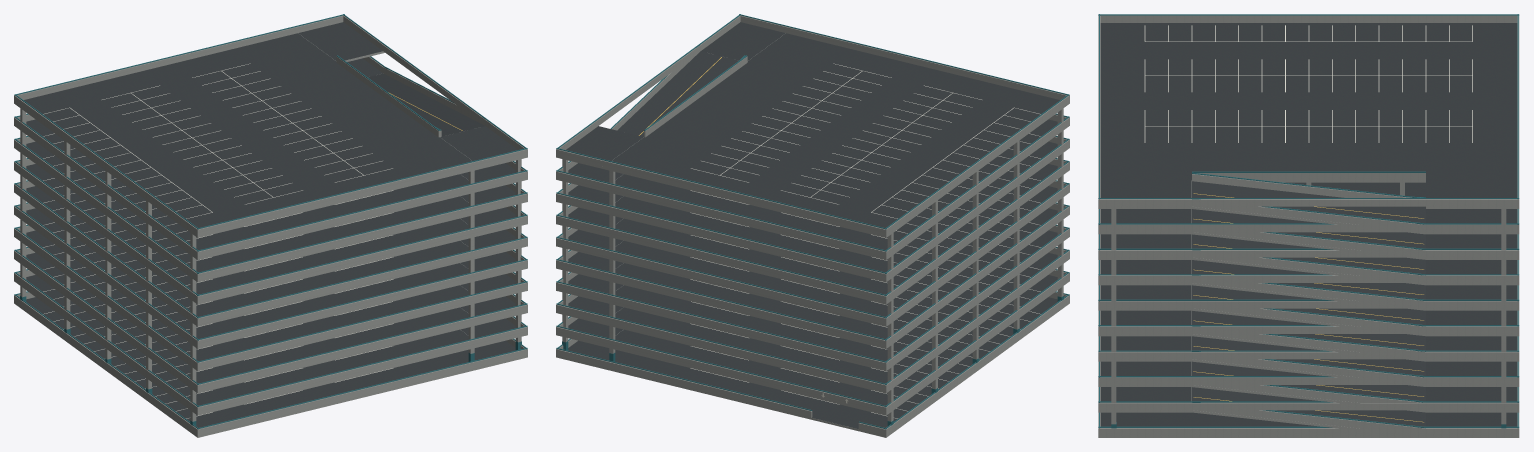
Rendered from large_10.glb.
The picture shows the model from 3 angles, left to right: view 1: azimuth 30°, elevation 25°; view 2: azimuth 150°, elevation 25°; view 3: azimuth 270°, elevation 25°; orthographic projection. The views are drawn at different scales.
Visible parts, largest first — view 1: large_10_Asphalt, large_10_Concrete, large_10_Teal, large_10_Paint; view 2: large_10_Asphalt, large_10_Concrete, large_10_Teal, large_10_Paint; view 3: large_10_Asphalt, large_10_Concrete, large_10_Teal, large_10_Paint, large_10_Yellow.
Part boxes in pixels (x1=…): large_10_Asphalt: x1=24, y1=22, x2=517, y2=427; large_10_Concrete: x1=14, y1=15, x2=527, y2=437; large_10_Teal: x1=14, y1=14, x2=527, y2=429; large_10_Paint: x1=43, y1=63, x2=393, y2=418; large_10_Asphalt: x1=566, y1=22, x2=1059, y2=428; large_10_Concrete: x1=556, y1=15, x2=1069, y2=437; large_10_Teal: x1=556, y1=14, x2=1069, y2=429; large_10_Paint: x1=690, y1=63, x2=1040, y2=418; large_10_Asphalt: x1=1100, y1=23, x2=1517, y2=426; large_10_Concrete: x1=1098, y1=15, x2=1519, y2=437; large_10_Teal: x1=1098, y1=14, x2=1519, y2=428; large_10_Paint: x1=1144, y1=25, x2=1472, y2=142; large_10_Yellow: x1=1193, y1=193, x2=1423, y2=422.
Size of the model in its own units: 56 by 33.88 by 54.02.
6 materials, 2 textured.
